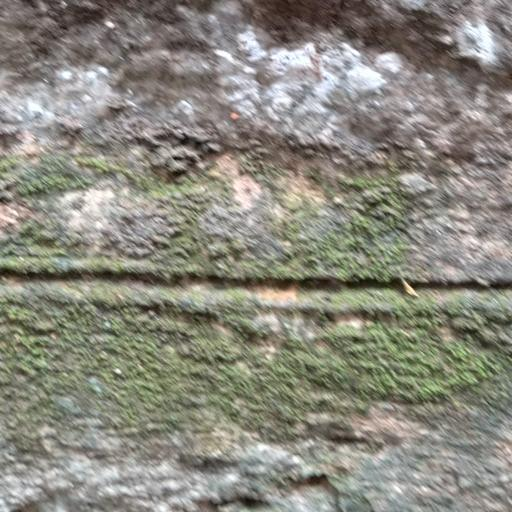algae: (9, 118, 511, 512)
